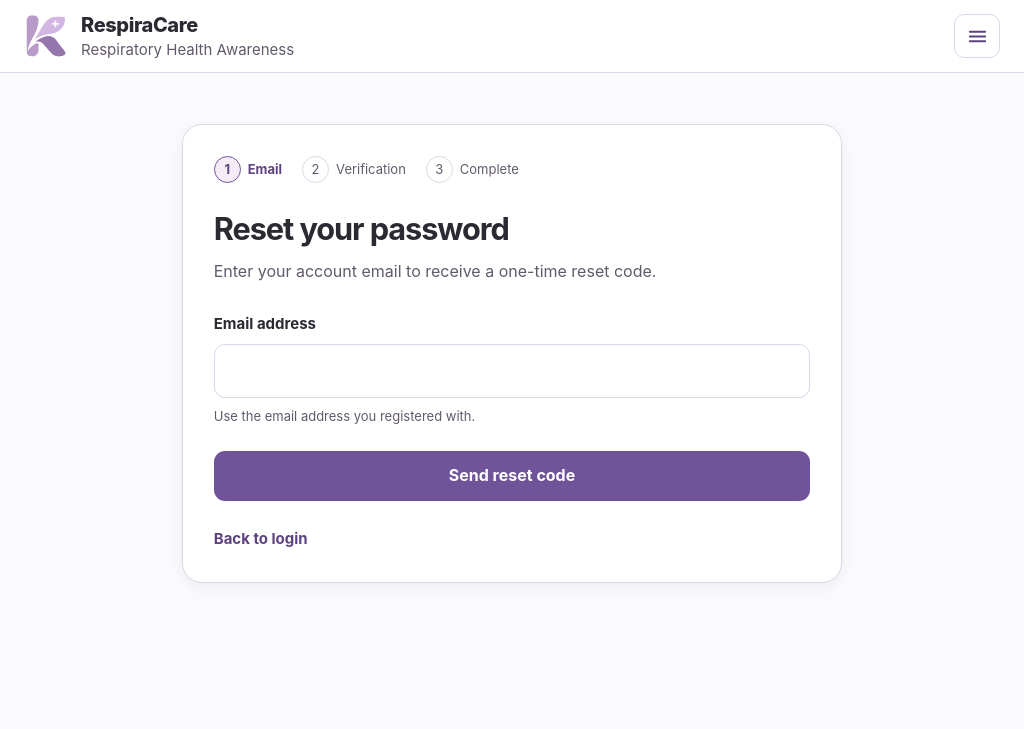
Test case: forgotten-password recovery › explains the attempts_exhausted response without logging in
The image size is (1024, 729).
Type "PERSON@EXAMPLE.COM" into the field labelled "Email address". click: coordinates (512, 371)
box: left=214, top=344, right=810, bottom=398
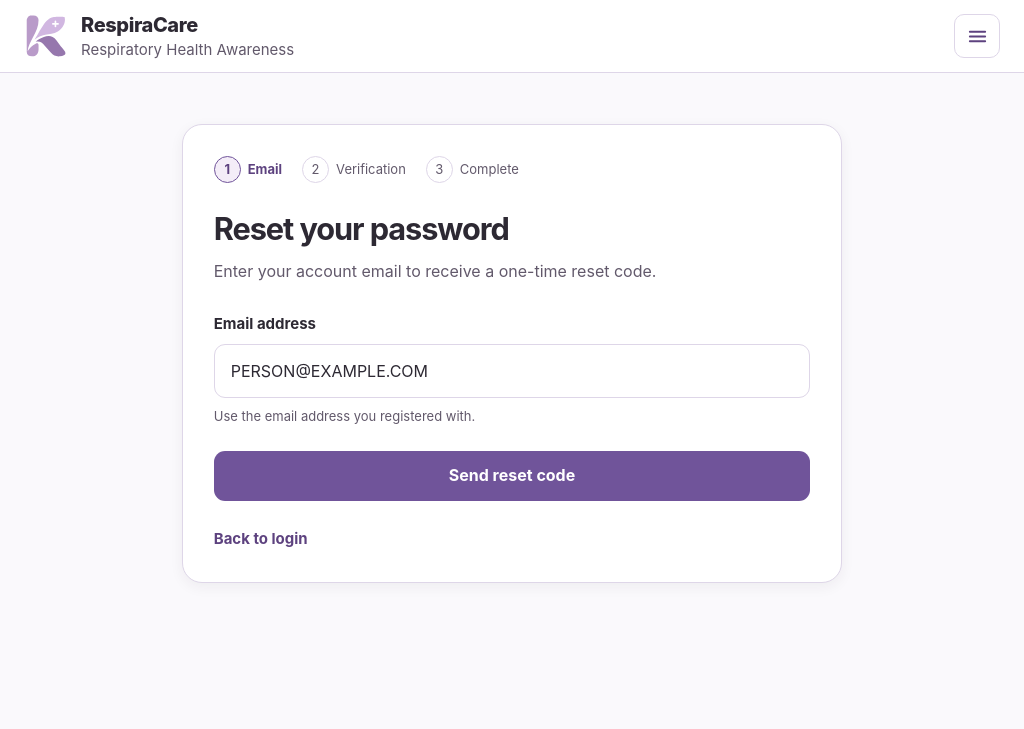
Click the button "Send reset code". click: coordinates (512, 476)
box: left=214, top=451, right=810, bottom=501
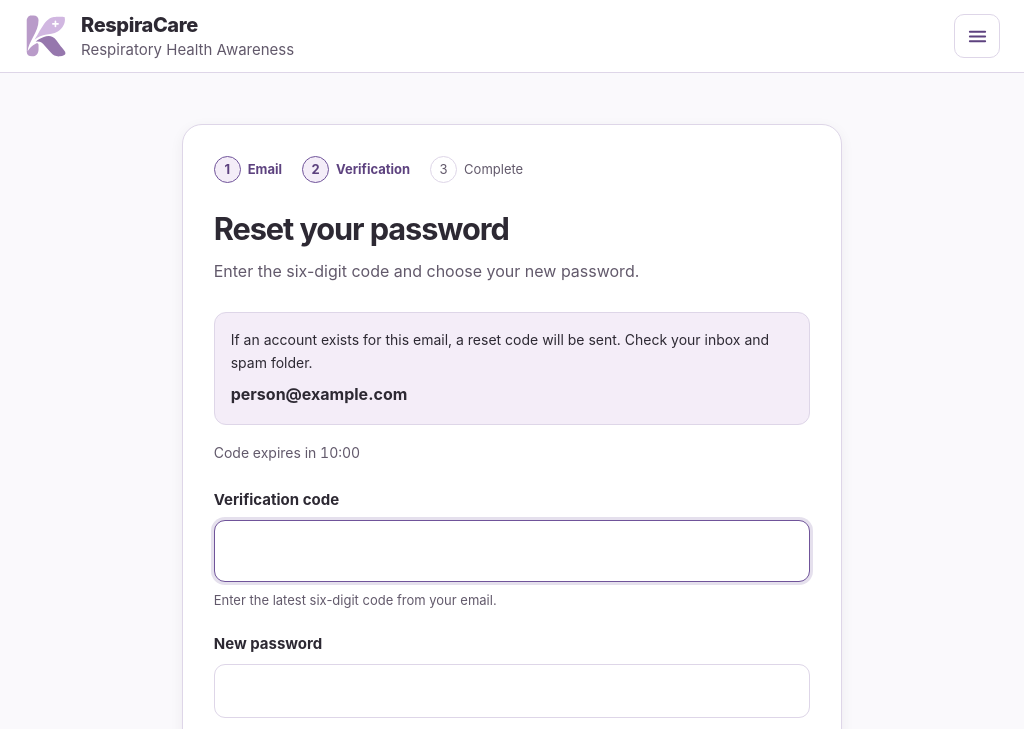
Now the field labelled "Verification code" is shown
Type "012345" into the field labelled "Verification code". click: coordinates (512, 551)
box: left=214, top=520, right=810, bottom=582
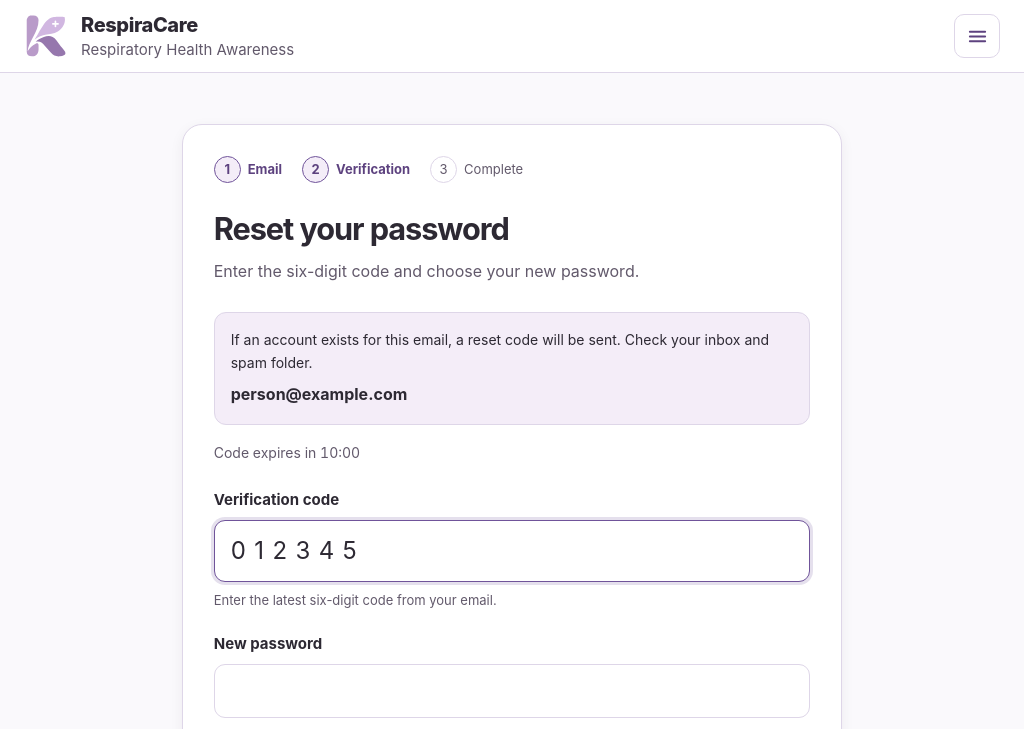
Type "SyntheticNewPassword123!" into the password field labelled "New password". click: coordinates (512, 691)
box: left=214, top=664, right=810, bottom=718
(page scrolled)
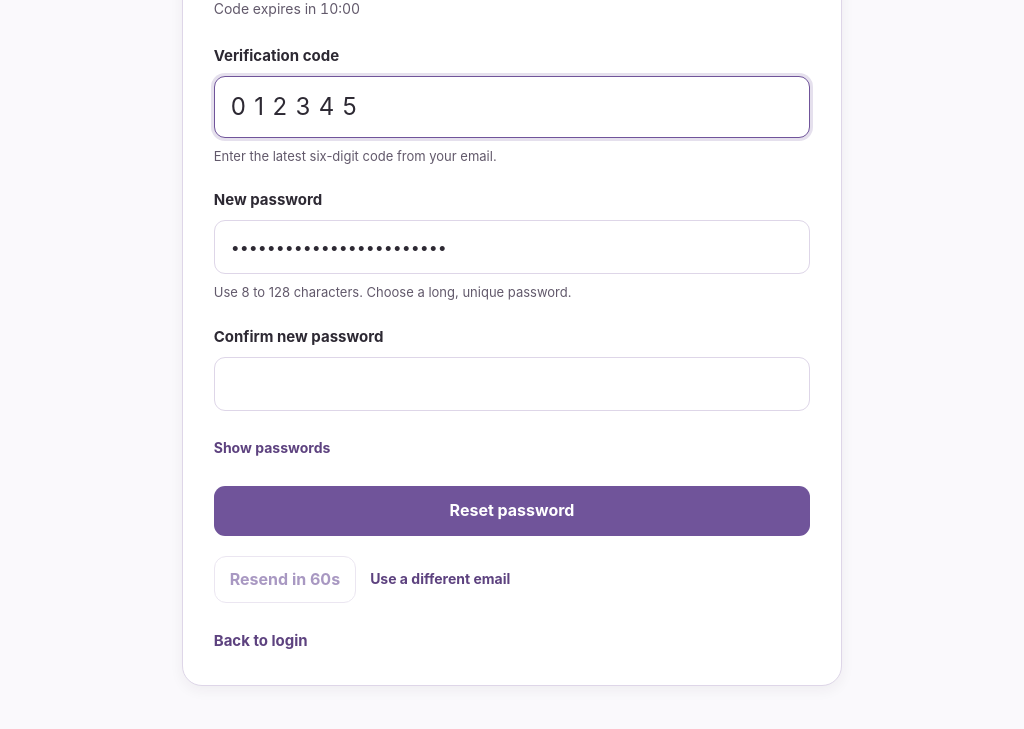
Type "SyntheticNewPassword123!" into the password field labelled "Confirm new password". click: coordinates (512, 384)
box: left=214, top=357, right=810, bottom=411
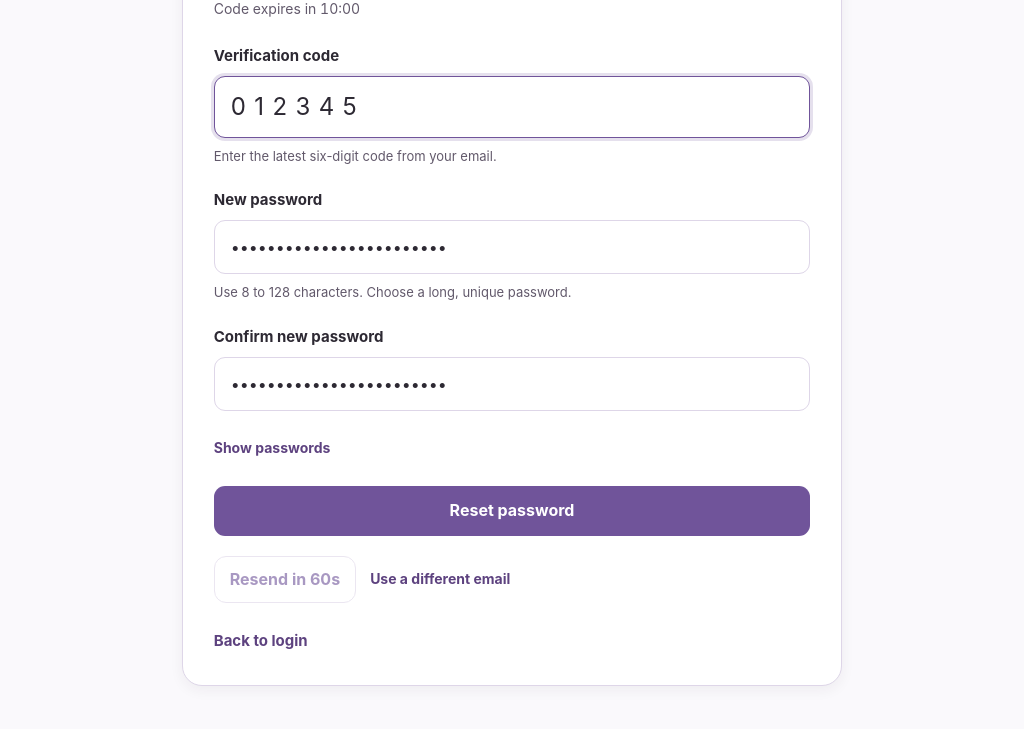
Click the button "Reset password". click: coordinates (512, 511)
box: left=214, top=486, right=810, bottom=536
(page scrolled)
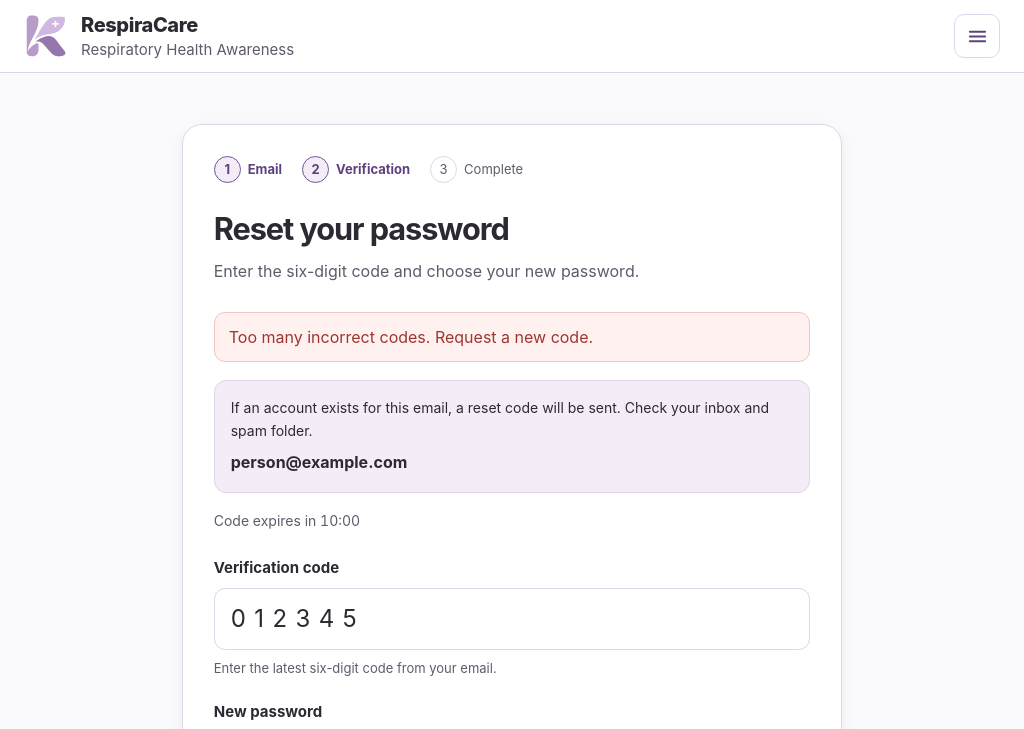
Now the message "Too many incorrect codes. Request a new code." is shown, box left=214, top=312, right=810, bottom=362
